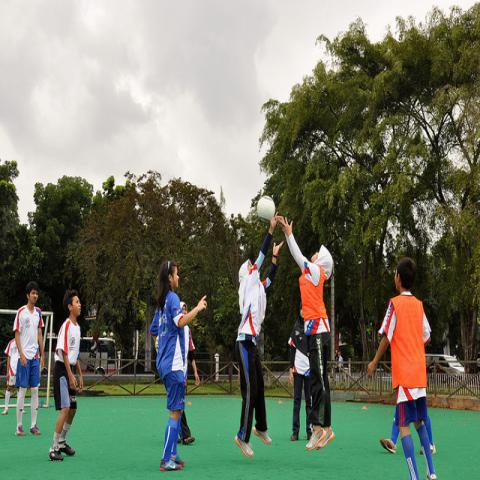bus: (44, 337, 118, 375)
car: (426, 352, 466, 376)
